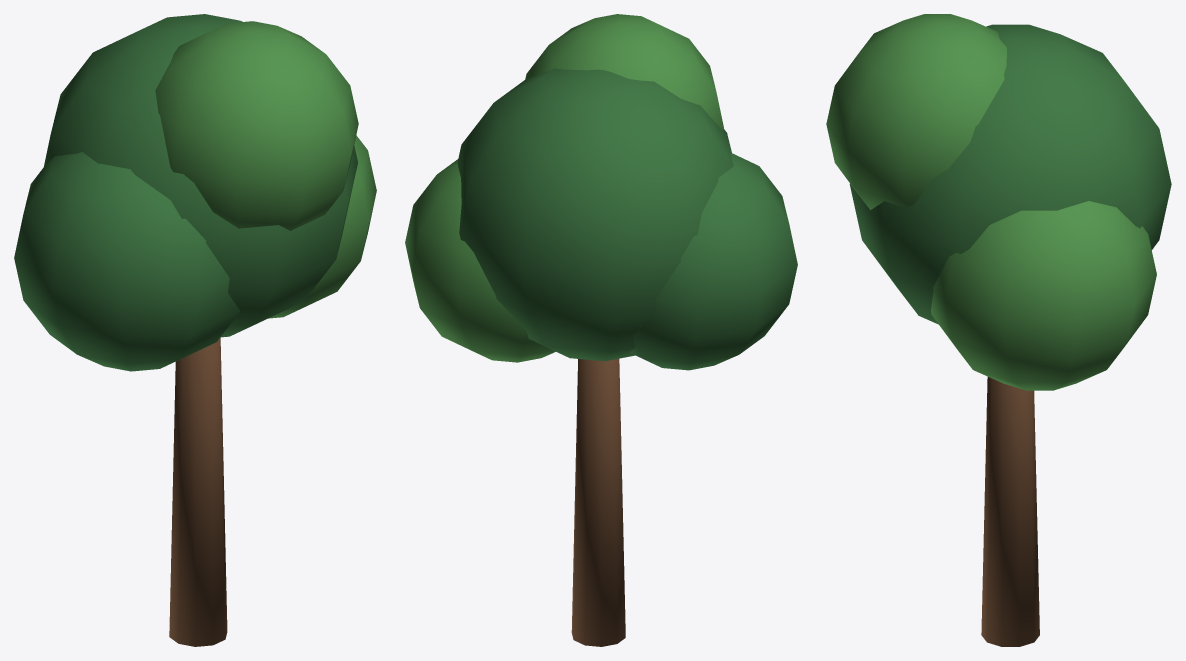
File: tree_small.gltf
3 renders of one model, left to right at view 1: azimuth 30°, elevation 25°; view 2: azimuth 150°, elevation 25°; view 3: azimuth 270°, elevation 25°, orthographic. The views are drawn at different scales.
Parts seen in each view (by area): view 1: tree_small_mesh; view 2: tree_small_mesh; view 3: tree_small_mesh.
Boxes of the visible parts, x1,y1,x2,y2 form: tree_small_mesh: (14,14,376,646); tree_small_mesh: (405,14,797,646); tree_small_mesh: (826,14,1171,646).
Size of the model in its own units: 1.38 by 2.33 by 1.18.
